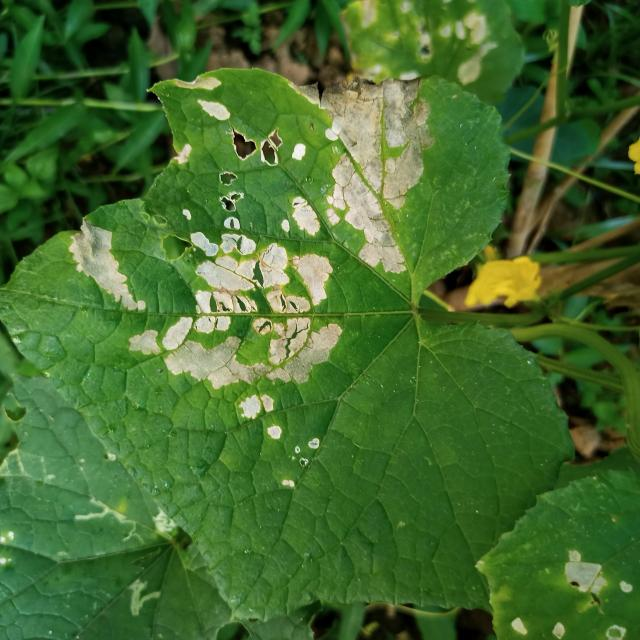disease_cucumber: (64, 215, 344, 491), (162, 60, 422, 281)
